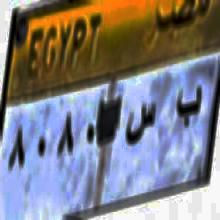0: (35, 123, 49, 166), (84, 113, 96, 158)
8: (8, 122, 29, 177), (57, 112, 76, 168)
baa: (175, 73, 205, 134)
seen: (128, 92, 157, 162)
